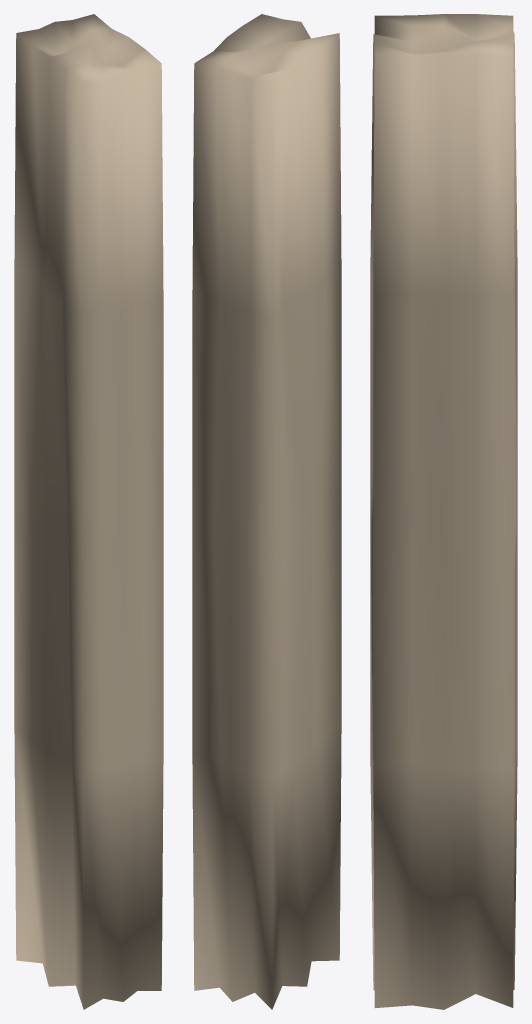
Rendered from rock_monolith_small.glb.
3 views of the same model, side by side, from view 1: azimuth 30°, elevation 25°; view 2: azimuth 150°, elevation 25°; view 3: azimuth 270°, elevation 25° (orthographic). The views are drawn at different scales.
Visible parts, largest first — view 1: RockMonolith_small; view 2: RockMonolith_small; view 3: RockMonolith_small.
Part boxes in pixels (x1,y1,x2,y2): RockMonolith_small: (14, 14, 163, 1009); RockMonolith_small: (192, 14, 341, 1009); RockMonolith_small: (370, 14, 517, 1009).
Bounding box in the file's own units: 39.5 × 414 × 57.5.
